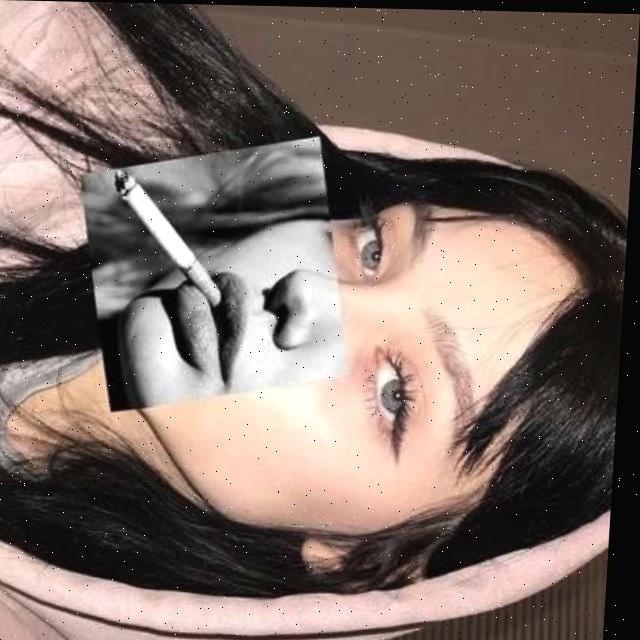cigarette: (109, 168, 231, 306)
